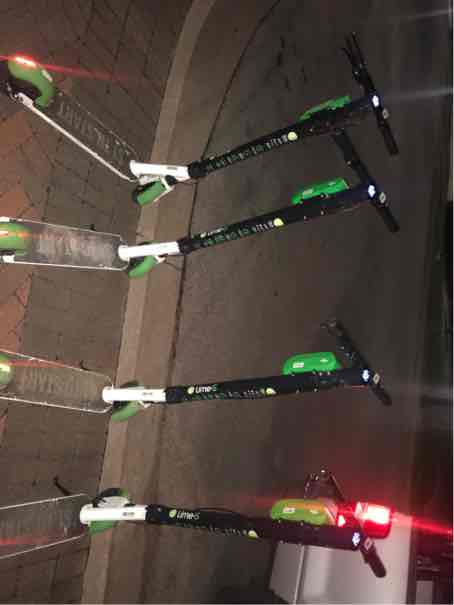too close: (83, 341, 175, 436), (72, 457, 155, 561), (119, 133, 206, 219), (107, 224, 192, 309)
